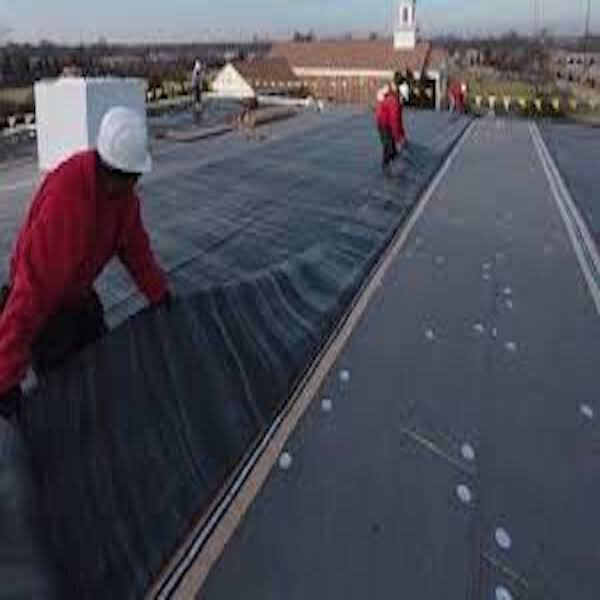helmet: (96, 107, 156, 177), (399, 81, 418, 101)
